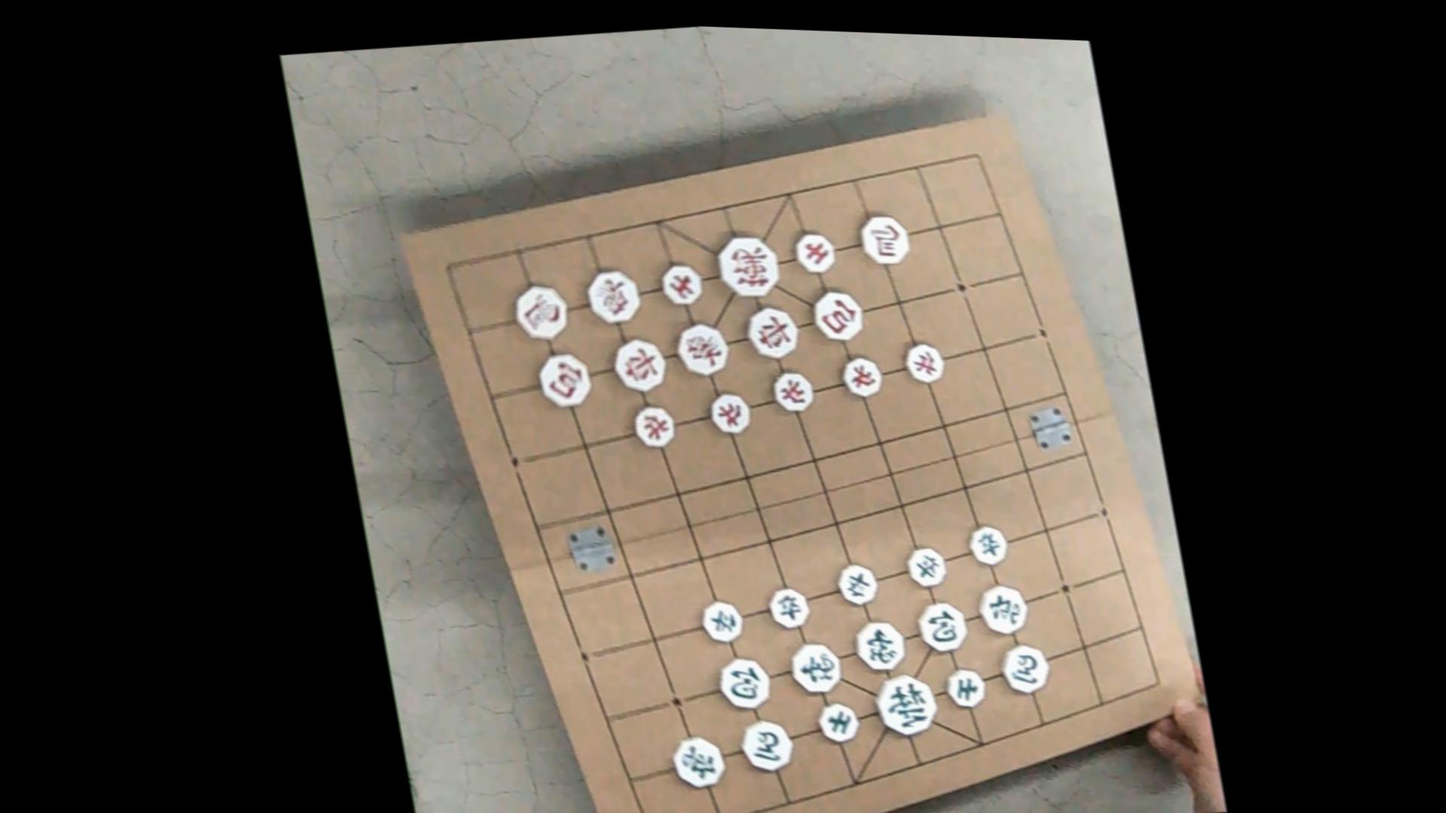cha_green: (670, 735, 728, 789), (975, 583, 1032, 637)
cha_red: (609, 337, 670, 395), (743, 306, 801, 361)
jol_green: (699, 600, 746, 644), (767, 586, 812, 630), (835, 564, 880, 607), (966, 525, 1010, 567), (905, 547, 948, 589)
jol_red: (707, 391, 754, 437), (631, 405, 679, 449), (769, 371, 816, 415), (901, 342, 947, 385), (838, 356, 885, 398)
ma_green: (737, 719, 796, 773), (998, 643, 1053, 696)
ma_red: (511, 284, 572, 343), (856, 213, 913, 268)
po_green: (715, 656, 774, 712), (914, 601, 970, 654)
po_red: (535, 352, 595, 410), (809, 288, 865, 343)
sa_green: (941, 667, 988, 711), (816, 702, 862, 744)
sa_red: (657, 262, 705, 307), (791, 231, 837, 276)
sang_green: (788, 642, 844, 696), (852, 620, 909, 673)
sang_red: (583, 267, 644, 326), (673, 321, 732, 378)
wang_green: (871, 673, 941, 738)
wang_red: (713, 233, 784, 299)
